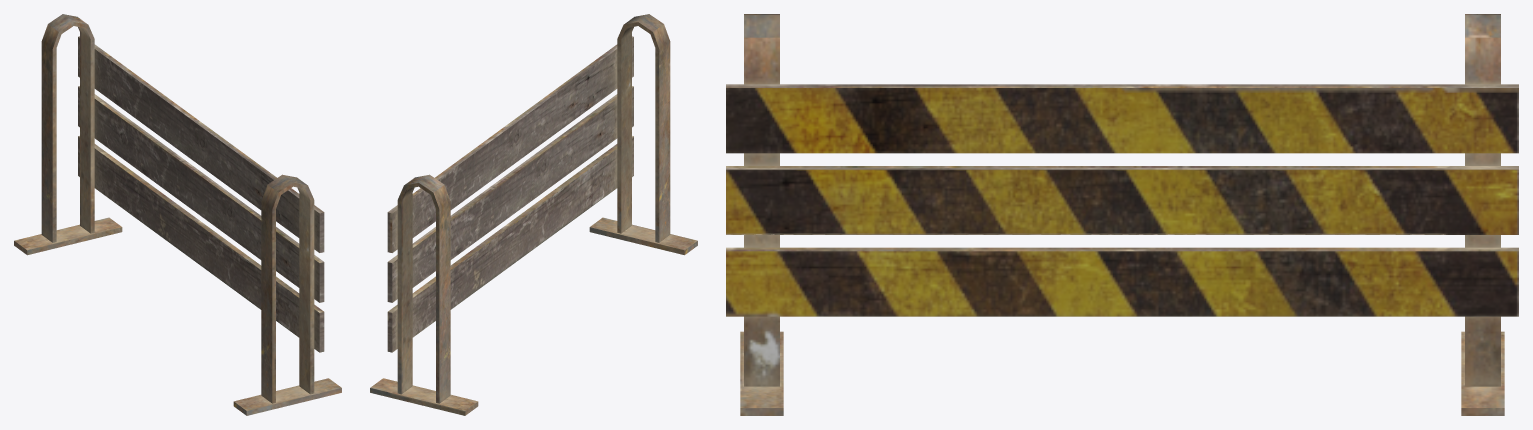
Rendered from fence_3.fbx.
3 views of the same model, side by side, from view 1: azimuth 30°, elevation 25°; view 2: azimuth 150°, elevation 25°; view 3: azimuth 270°, elevation 25° (orthographic). The views are drawn at different scales.
Visible parts, largest first — view 1: var6_2; view 2: var6_2; view 3: var6_2.
Boxes of the visible parts, x1,y1,x2,y2 form: var6_2: [14, 14, 341, 415]; var6_2: [370, 14, 697, 415]; var6_2: [726, 14, 1518, 415].
Size of the model in its own units: 41.67 by 92.5 by 183.
1 material, 1 textured.
